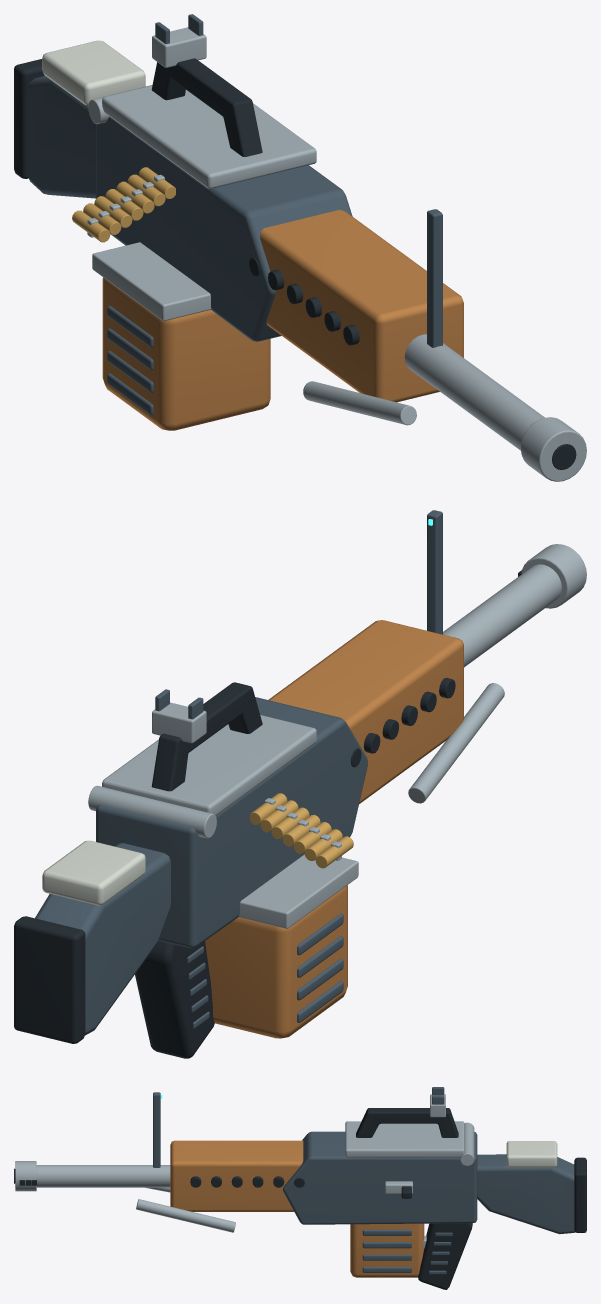
File: weapon_08.glb
The picture shows the model from 3 angles, top to bottom: view 1: azimuth 30°, elevation 25°; view 2: azimuth 150°, elevation 25°; view 3: azimuth 270°, elevation 25°; orthographic projection. The views are drawn at different scales.
Visible parts, largest first — view 1: receiver / Cerakote midnight, receiver / Ochre armour, magazine / Ochre armour, receiver / Titanium, feed_cover / Titanium, magazine / Titanium, feed_cover / Elastomer, receiver / Ceramic, receiver / Elastomer, ammo_belt / Copper, magazine / Cerakote midnight; view 2: receiver / Cerakote midnight, receiver / Ochre armour, receiver / Titanium, magazine / Ochre armour, receiver / Elastomer, feed_cover / Titanium, pistol_grip / Elastomer, magazine / Titanium, receiver / Ceramic, feed_cover / Elastomer, ammo_belt / Copper, magazine / Cerakote midnight; view 3: receiver / Cerakote midnight, receiver / Ochre armour, receiver / Titanium, feed_cover / Titanium, magazine / Ochre armour, pistol_grip / Elastomer, feed_cover / Elastomer, receiver / Elastomer, receiver / Ceramic, magazine / Cerakote midnight, pistol_grip / Cerakote midnight, charging_handle / Titanium.
Boxes of the visible parts, left/top/right/bottom form: receiver / Cerakote midnight: left=28, top=14, right=442, bottom=347; receiver / Ochre armour: left=260, top=209, right=463, bottom=402; magazine / Ochre armour: left=102, top=277, right=270, bottom=430; receiver / Titanium: left=88, top=27, right=586, bottom=481; feed_cover / Titanium: left=102, top=85, right=316, bottom=188; magazine / Titanium: left=92, top=242, right=211, bottom=320; feed_cover / Elastomer: left=151, top=58, right=262, bottom=156; receiver / Ceramic: left=42, top=40, right=145, bottom=105; receiver / Elastomer: left=14, top=59, right=576, bottom=469; ammo_belt / Copper: left=72, top=167, right=175, bottom=242; magazine / Cerakote midnight: left=107, top=305, right=153, bottom=415; receiver / Cerakote midnight: left=35, top=510, right=442, bottom=1035; receiver / Ochre armour: left=268, top=620, right=463, bottom=803; receiver / Titanium: left=88, top=544, right=586, bottom=838; magazine / Ochre armour: left=205, top=885, right=347, bottom=1038; receiver / Elastomer: left=14, top=570, right=521, bottom=1043; feed_cover / Titanium: left=102, top=715, right=316, bottom=815; pistol_grip / Elastomer: left=135, top=941, right=214, bottom=1058; magazine / Titanium: left=238, top=854, right=358, bottom=928; receiver / Ceramic: left=42, top=840, right=145, bottom=905; feed_cover / Elastomer: left=151, top=682, right=262, bottom=791; ammo_belt / Copper: left=250, top=793, right=353, bottom=868; magazine / Cerakote midnight: left=297, top=913, right=343, bottom=1022; receiver / Cerakote midnight: left=153, top=1087, right=575, bottom=1234; receiver / Ochre armour: left=170, top=1140, right=303, bottom=1211; receiver / Titanium: left=15, top=1094, right=474, bottom=1249; feed_cover / Titanium: left=345, top=1121, right=464, bottom=1157; magazine / Ochre armour: left=350, top=1223, right=424, bottom=1277; pistol_grip / Elastomer: left=418, top=1223, right=472, bottom=1289; feed_cover / Elastomer: left=356, top=1108, right=458, bottom=1137; receiver / Elastomer: left=14, top=1157, right=586, bottom=1232; receiver / Ceramic: left=506, top=1141, right=557, bottom=1167; magazine / Cerakote midnight: left=362, top=1229, right=411, bottom=1272; pistol_grip / Cerakote midnight: left=429, top=1232, right=452, bottom=1274; charging_handle / Titanium: left=385, top=1181, right=412, bottom=1193.
Size of the model in its own units: 0.3525 by 0.5471 by 1.47.
